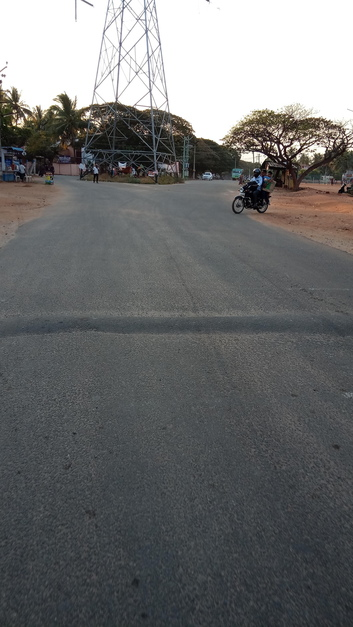bump: (1, 310, 353, 337)
